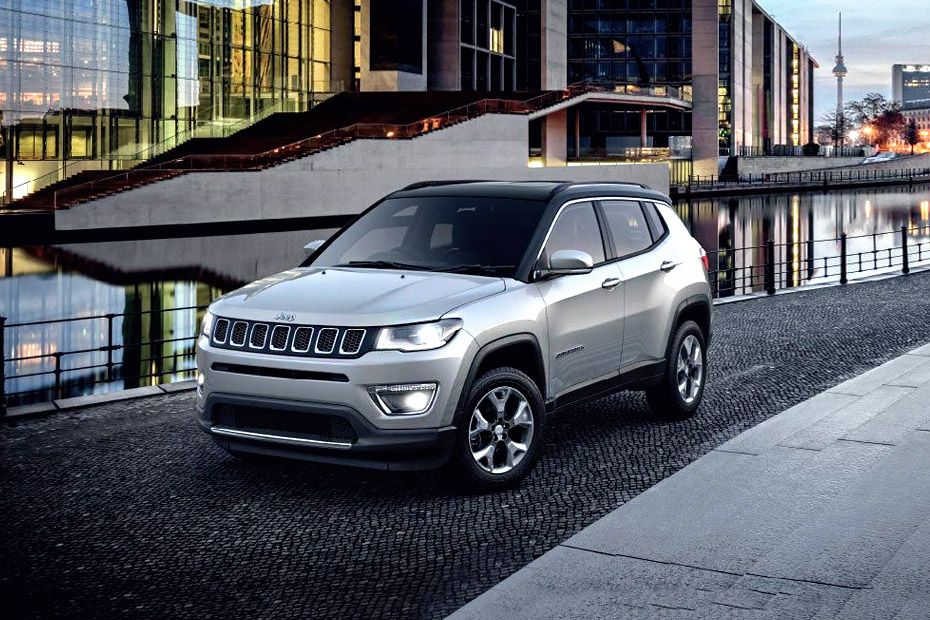Car: (192, 172, 732, 496)
